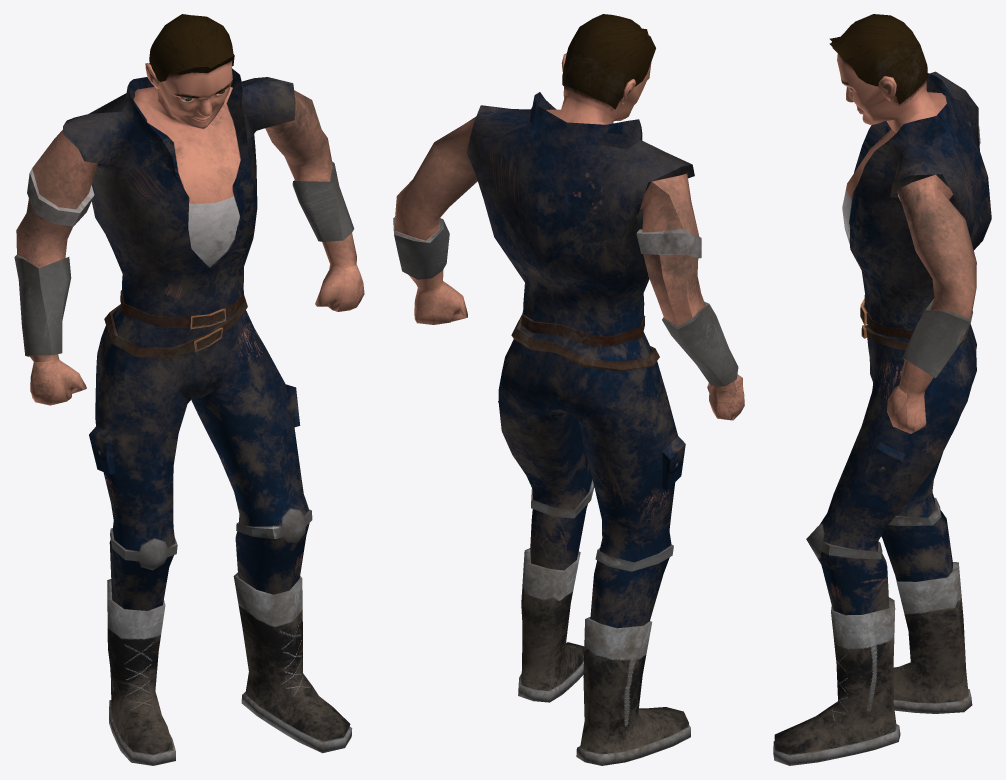
Rendered from Anim_coger_objeto_jugador.0019.obj.
The picture shows the model from 3 angles, left to right: view 1: azimuth 30°, elevation 25°; view 2: azimuth 150°, elevation 25°; view 3: azimuth 270°, elevation 25°; orthographic projection. The views are drawn at different scales.
Parts seen in each view (by area): view 1: polySurface1; view 2: polySurface1; view 3: polySurface1.
Part boxes in pixels (x1=…): polySurface1: x1=14, y1=14, x2=364, y2=765; polySurface1: x1=393, y1=14, x2=744, y2=765; polySurface1: x1=773, y1=14, x2=991, y2=765.
Size of the model in its own units: 4.56 by 9.45 by 2.67.
